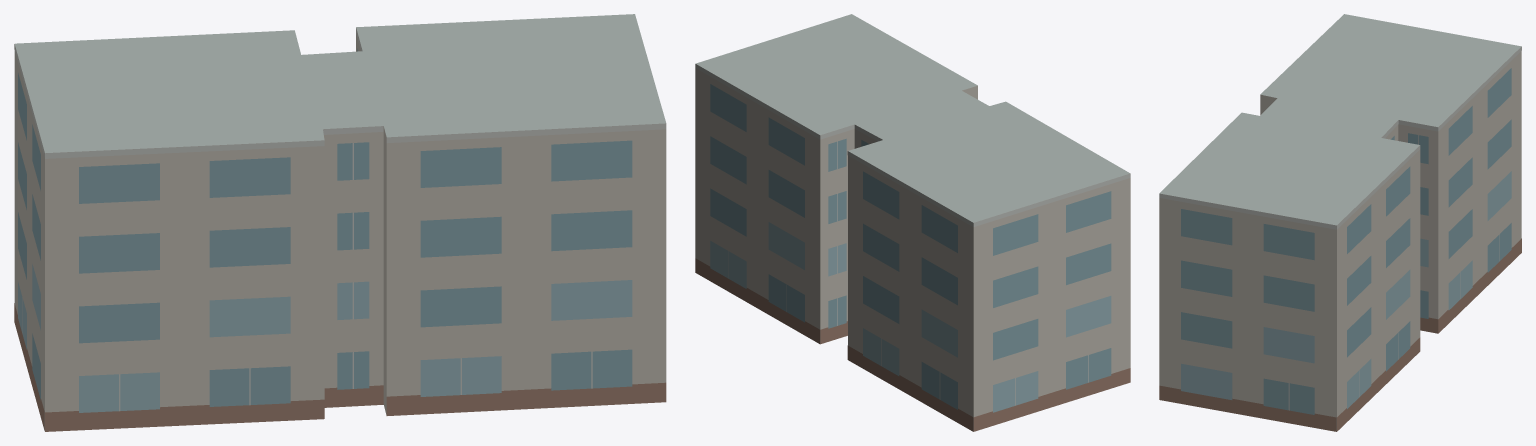
File: survey-upis-32532385.glb
3 views of the same model, side by side, from view 1: azimuth 30°, elevation 25°; view 2: azimuth 150°, elevation 25°; view 3: azimuth 270°, elevation 25° (orthographic). The views are drawn at different scales.
Parts seen in each view (by area): view 1: survey-upis-32532385.tmp; view 2: survey-upis-32532385.tmp; view 3: survey-upis-32532385.tmp.
Boxes of the visible parts, bbox=[...] form: survey-upis-32532385.tmp: bbox=[14, 14, 666, 431]; survey-upis-32532385.tmp: bbox=[695, 14, 1130, 431]; survey-upis-32532385.tmp: bbox=[1159, 14, 1521, 431].
Bounding box in the file's own units: 25.6 × 11.65 × 18.55.
